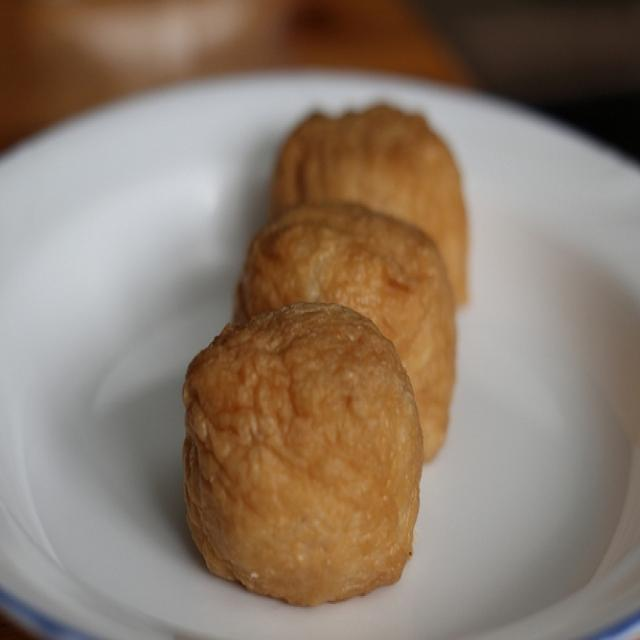寿司卷物: (3, 28, 630, 637)
